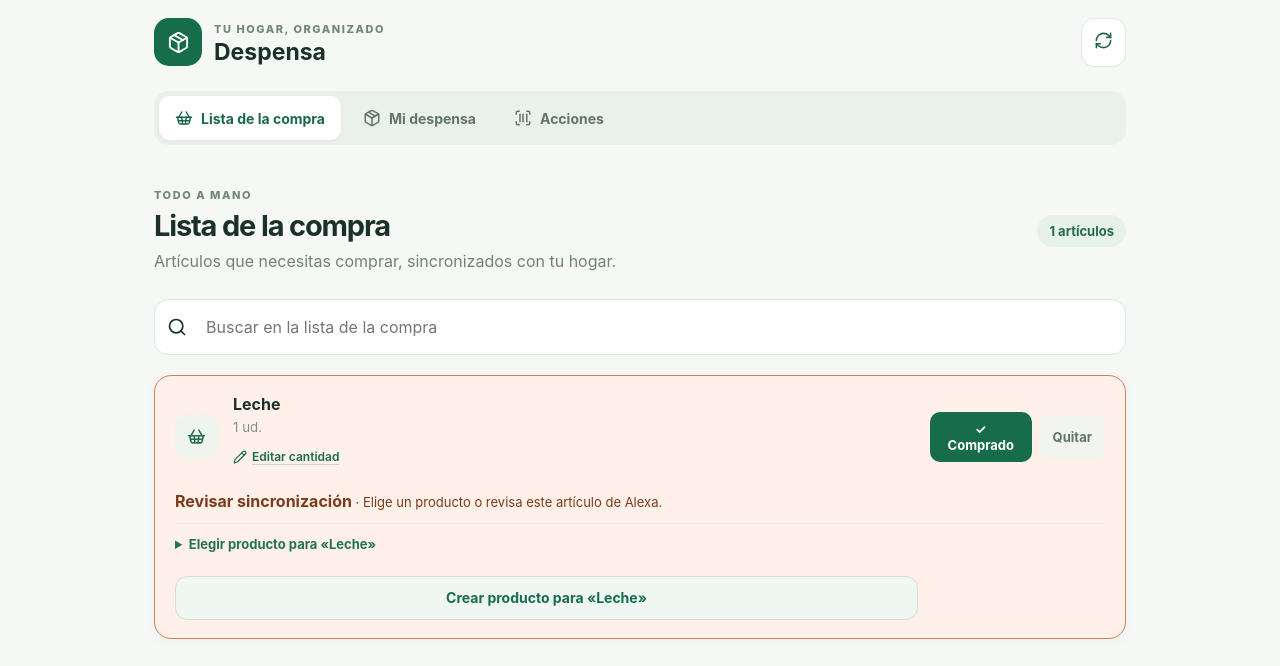
Test: keeps an ambiguous Alexa suggestion visible after a stale choice is rejected
Click the heading "Elegir producto para «Leche»" at (282, 544), box x1=189 y1=536 x2=376 y2=552
(page scrolled)
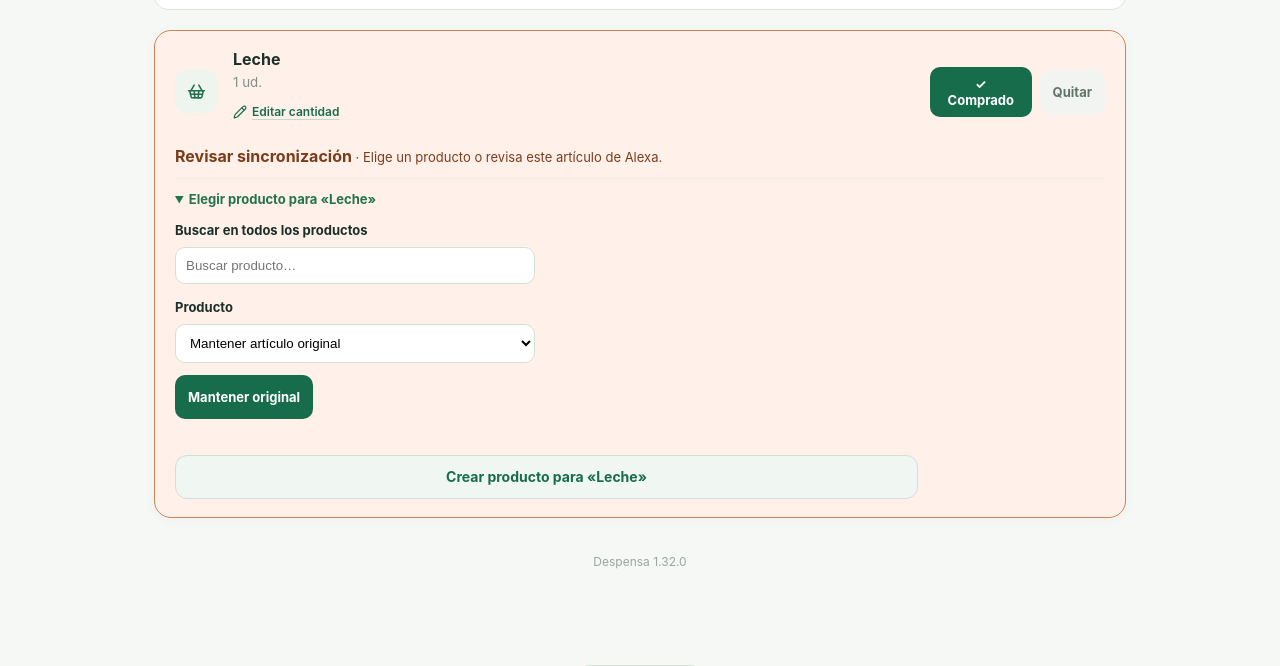
Select "Leche entera" in the dropdown labelled "Producto" at (355, 344), box x1=175 y1=324 x2=535 y2=363
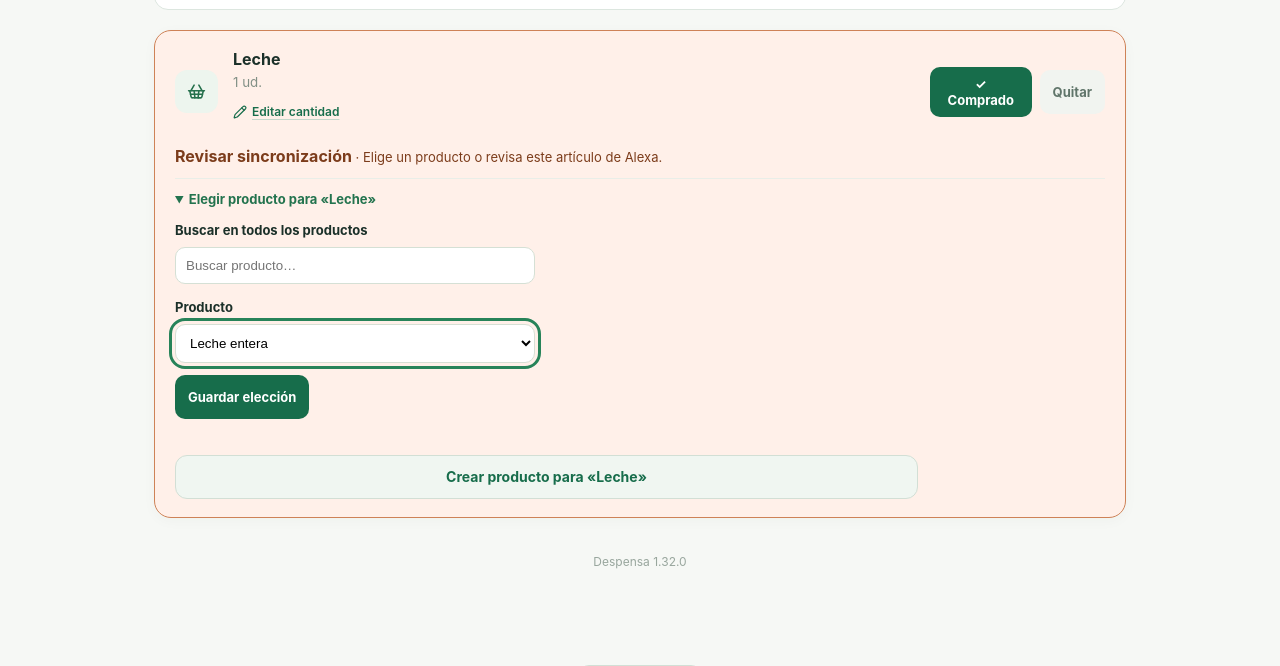
Click the button "Guardar elección" at (242, 397), box x1=175 y1=375 x2=309 y2=419
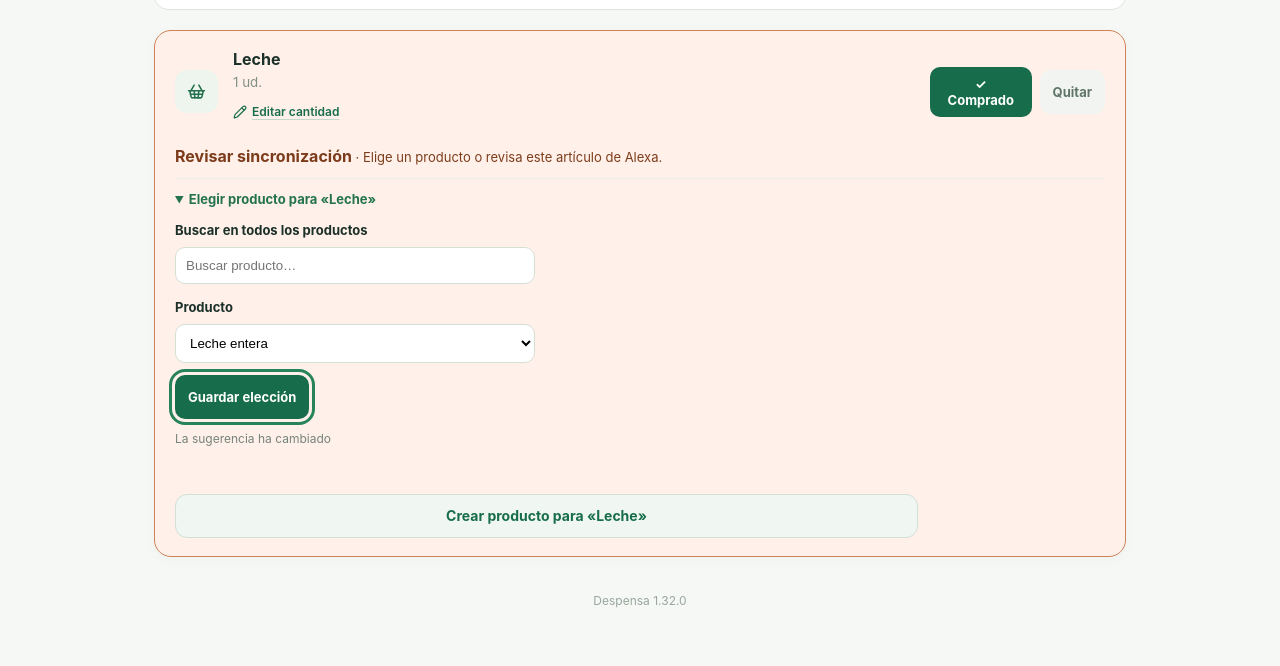
Result: the message "La sugerencia ha cambiado" is shown at x1=175 y1=431 x2=331 y2=446
